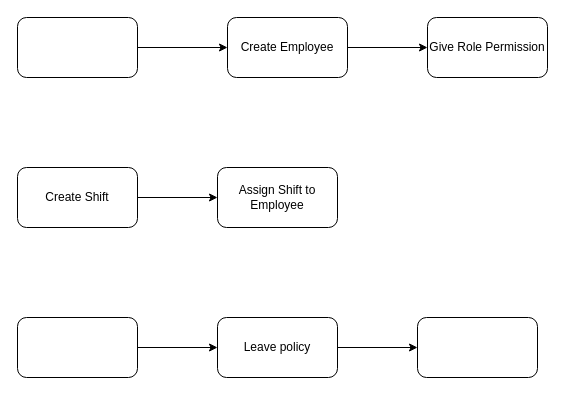
This 565x395 diagram has some shape labels left out. The shapes that lost their labels are listed below. From the top down, each one's box as (x1, y1, x2, y2) in pixels, then its label:
(16, 16, 138, 78): Create User
(16, 316, 138, 378): Leave Type
(416, 316, 538, 378): Leave Policy Assignment
